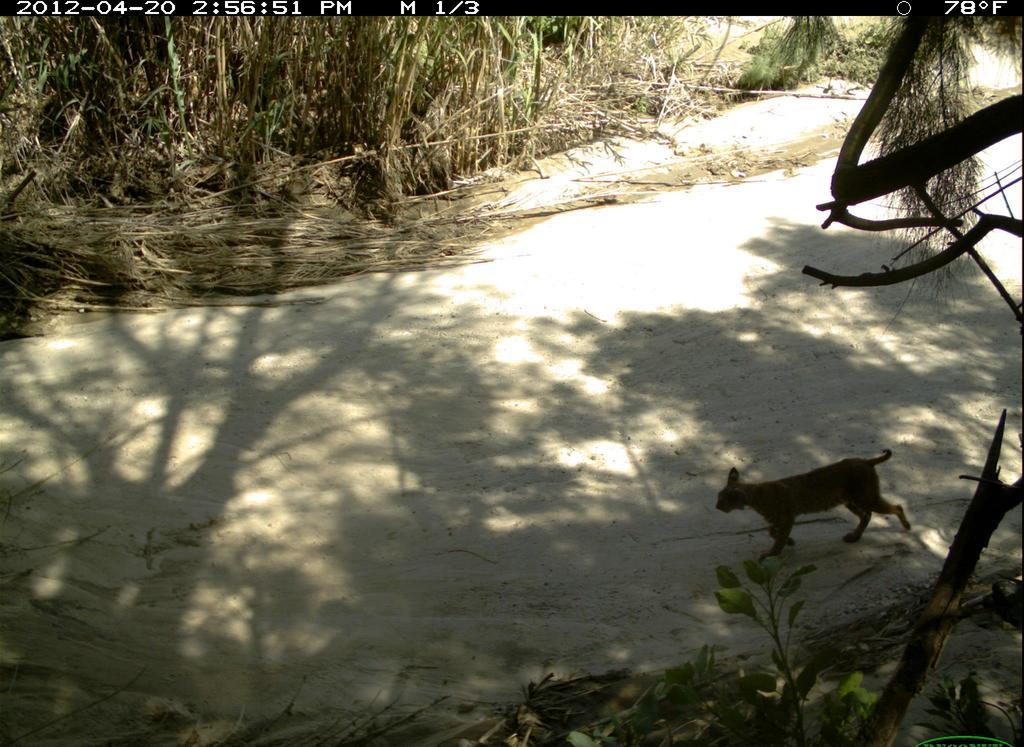bobcat: (699, 437, 921, 571)
